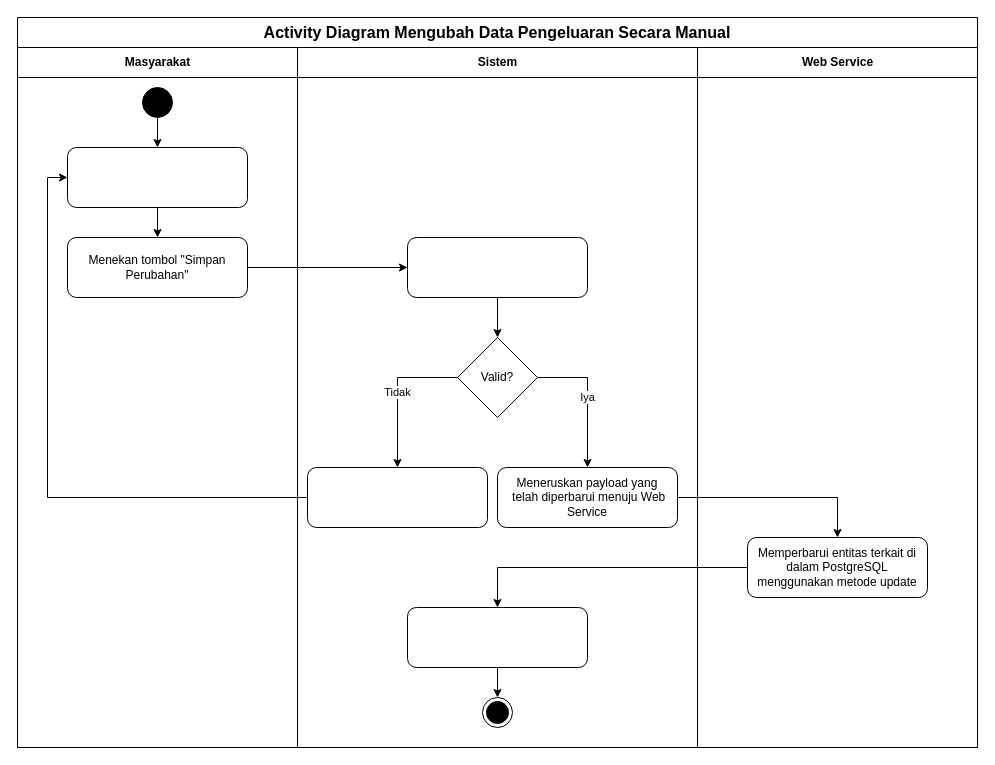
Some shapes in this 995 by 765 pixel diagram are drawn without their labels. Each missing label, with the centre of its shape:
"Memvalidasi inputan form secara lokal sebelum melakukan proses jaringan" belongs at (497,267).
"Menampilkan Toaster pemberitahuan sukses bahwa data telah direvisi" belongs at (497,637).
"Menyunting data seperti nominal, kategori, maupun catatan di dalam formulir edit" belongs at (157,177).
"Merespons dengan pesan validasi input dan menahan operasi penyimpanan" belongs at (397,497).
